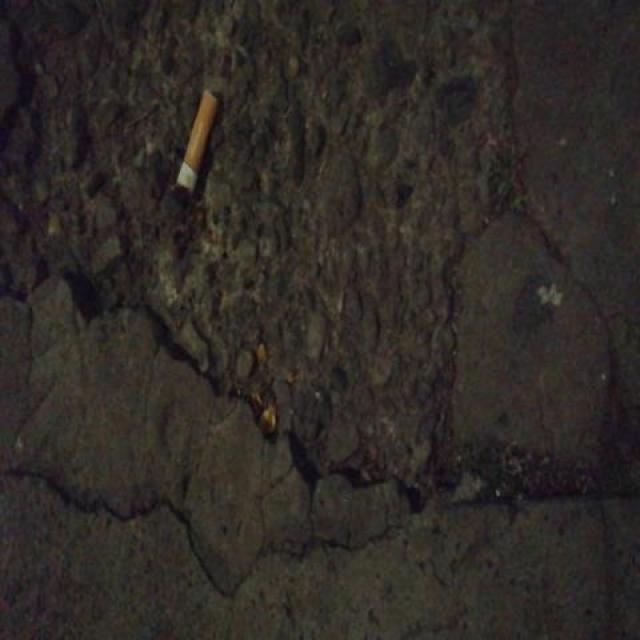non-organic waste: (170, 82, 227, 198)
